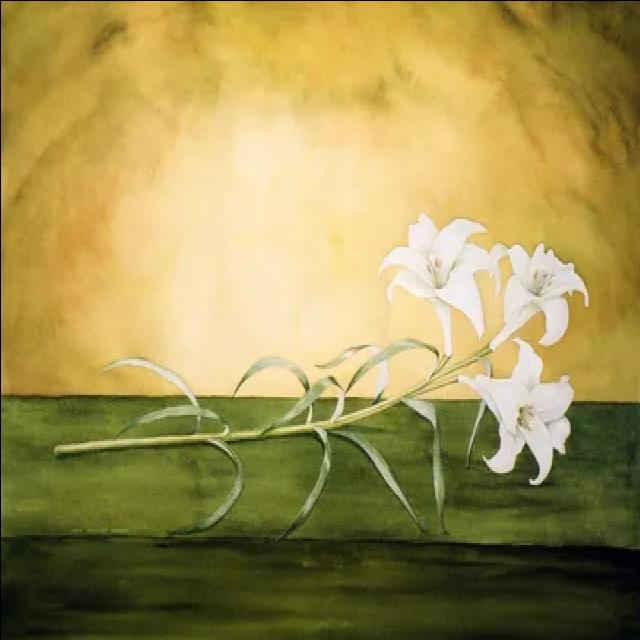lily: (377, 213, 499, 361)
